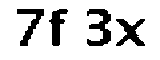3: (84, 4, 114, 52)
7: (11, 4, 46, 53)
f: (48, 6, 73, 51)
x: (114, 15, 149, 53)
